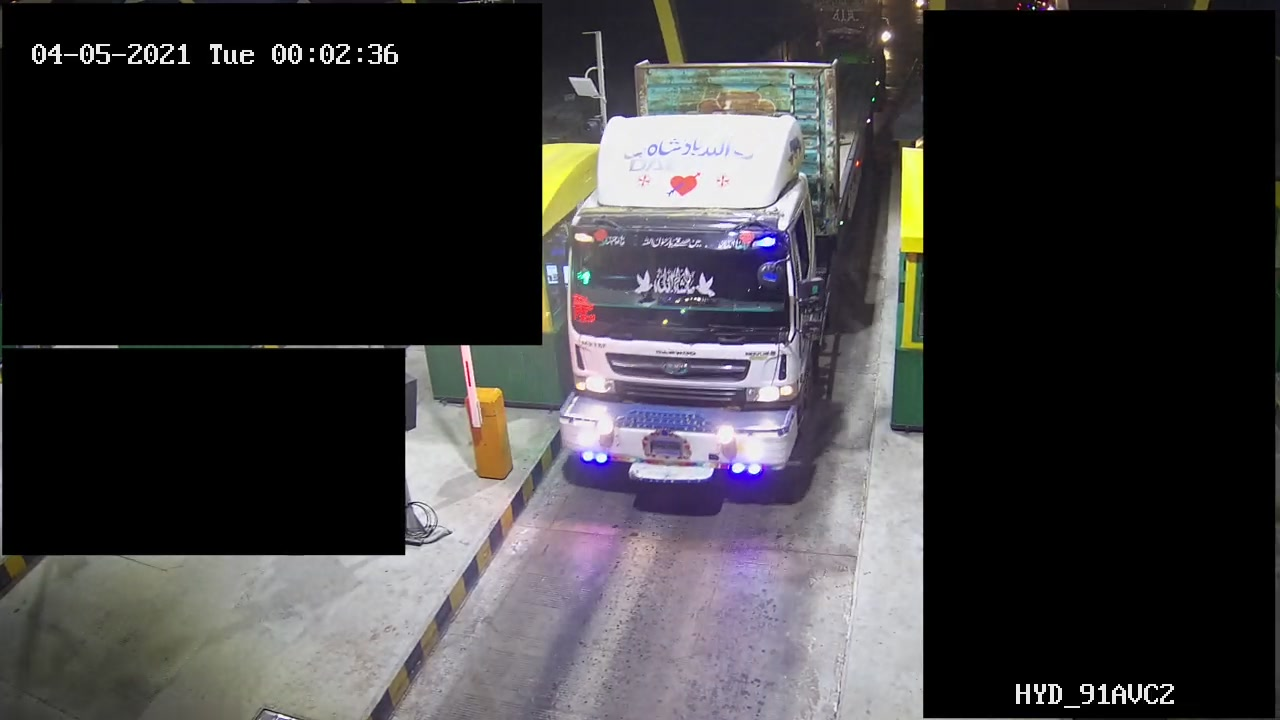F6: (559, 60, 900, 507)
